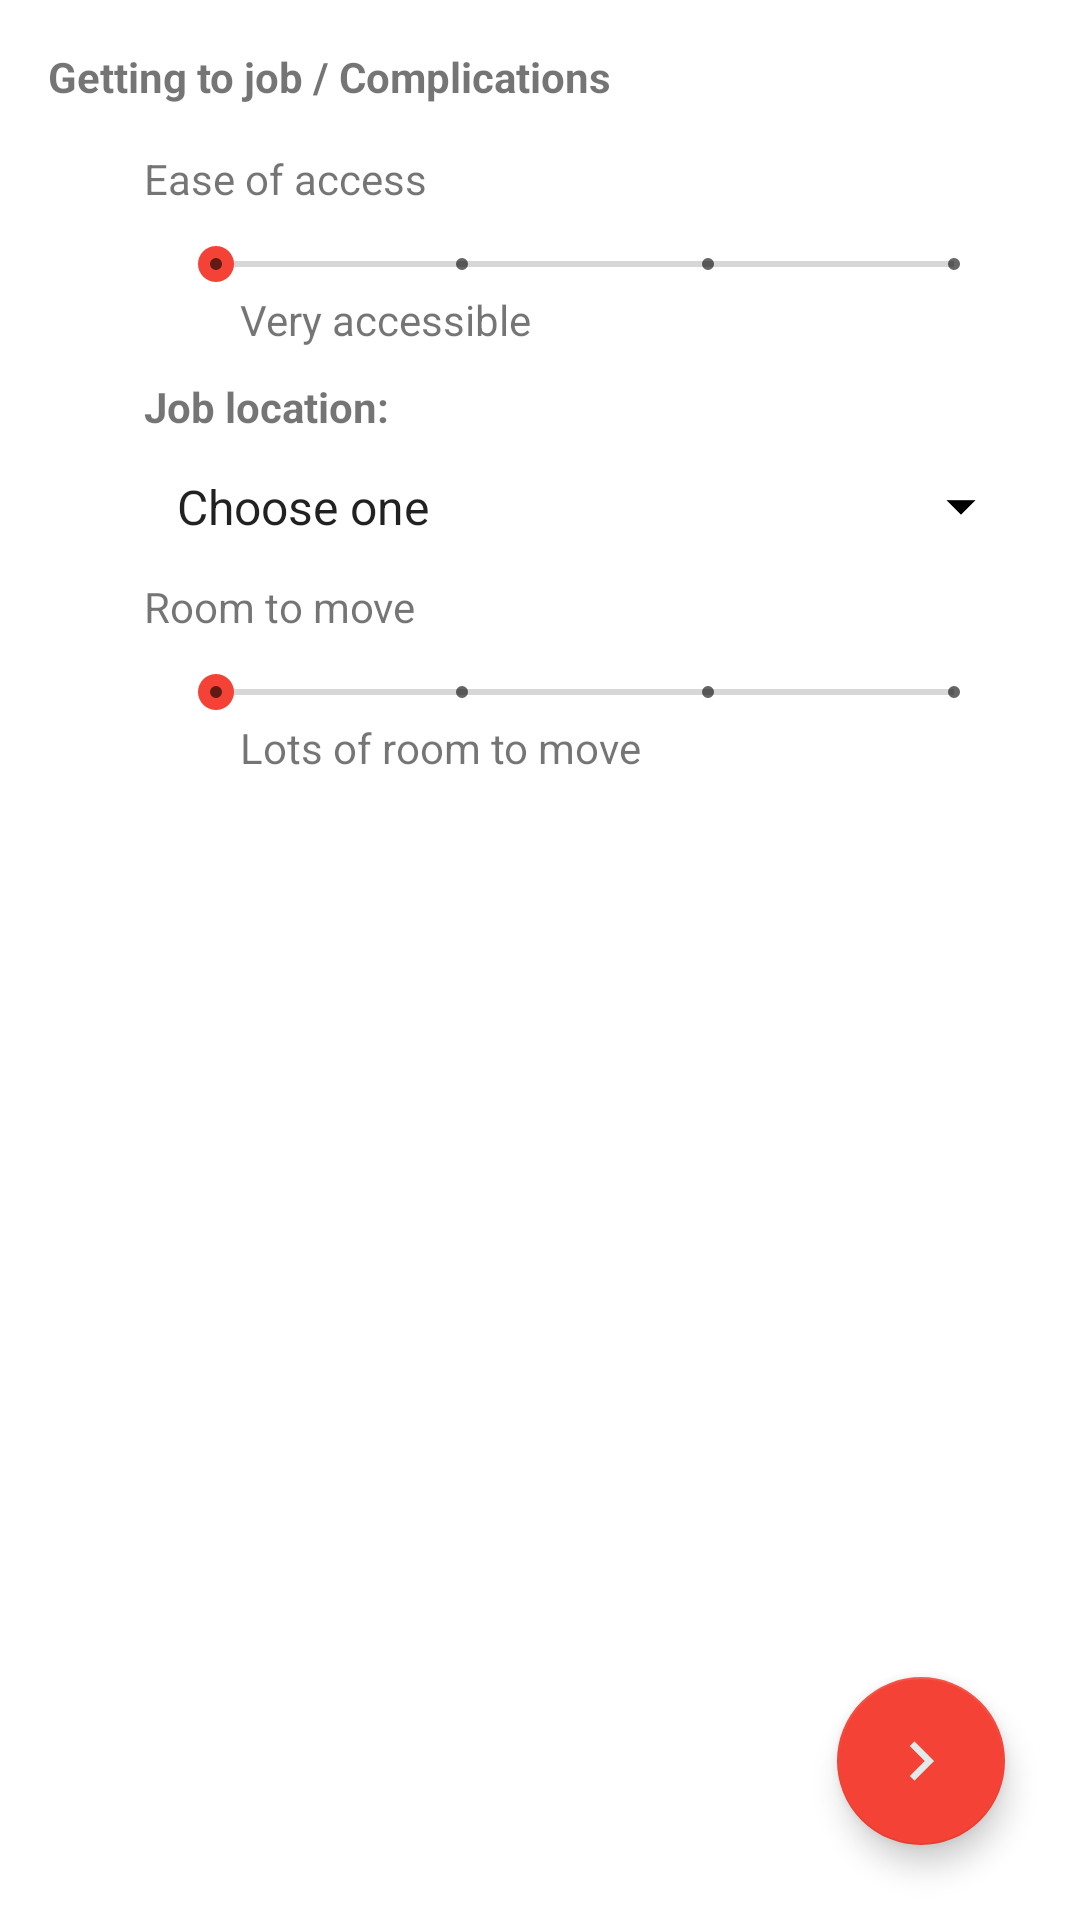

Icon bounding boxes for this 1080*1920 phone screenshot, format (left=x1, top=y1, right=x2, bottom=y2):
right arrow: (left=837, top=1677, right=1005, bottom=1845)
